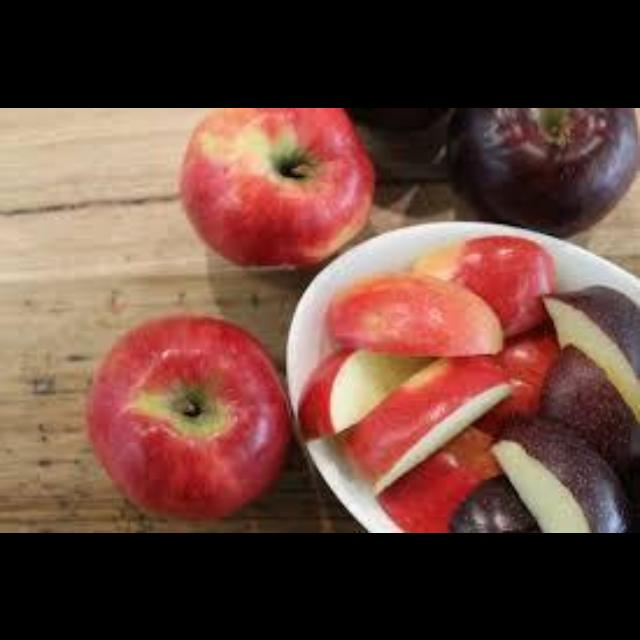apple: (86, 314, 289, 519), (179, 107, 372, 265), (344, 356, 510, 491), (412, 235, 554, 333), (326, 275, 500, 354), (298, 349, 428, 437)
